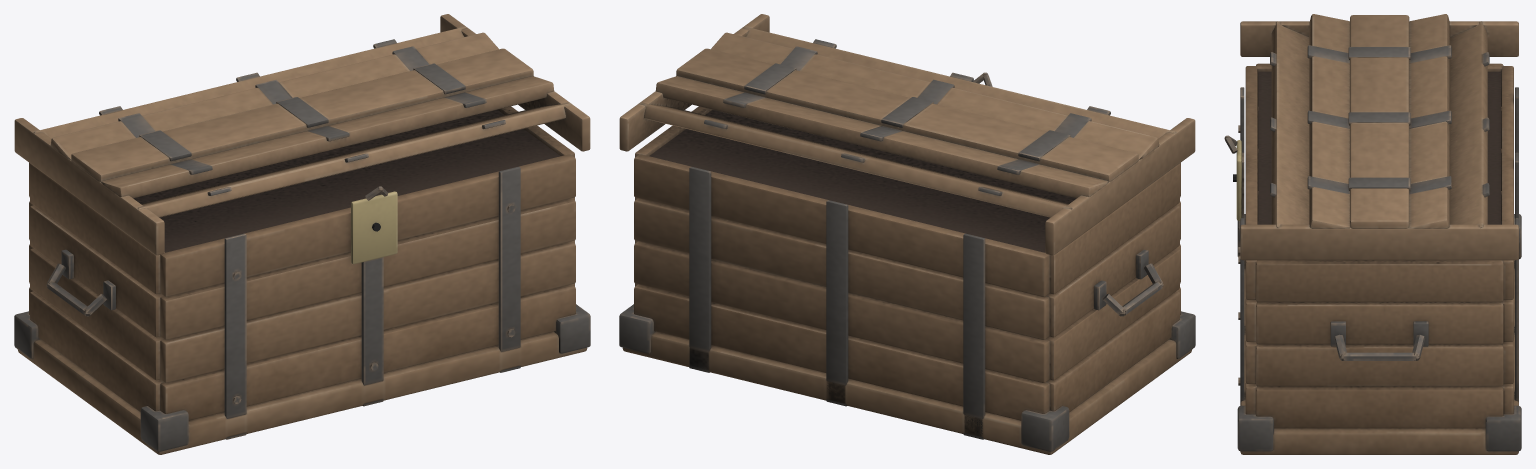
File: bragin_chest.glb
3 views of the same model, side by side, from view 1: azimuth 30°, elevation 25°; view 2: azimuth 150°, elevation 25°; view 3: azimuth 270°, elevation 25° (orthographic). The views are drawn at different scales.
Parts seen in each view (by area): view 1: bragin_chest; view 2: bragin_chest; view 3: bragin_chest.
Part boxes in pixels (<box>): bragin_chest: <box>14,14,590,454</box>; bragin_chest: <box>619,14,1195,454</box>; bragin_chest: <box>1224,14,1521,454</box>.
Size of the model in its own units: 1.04 by 0.5094 by 0.576.
1 material, 1 textured.
